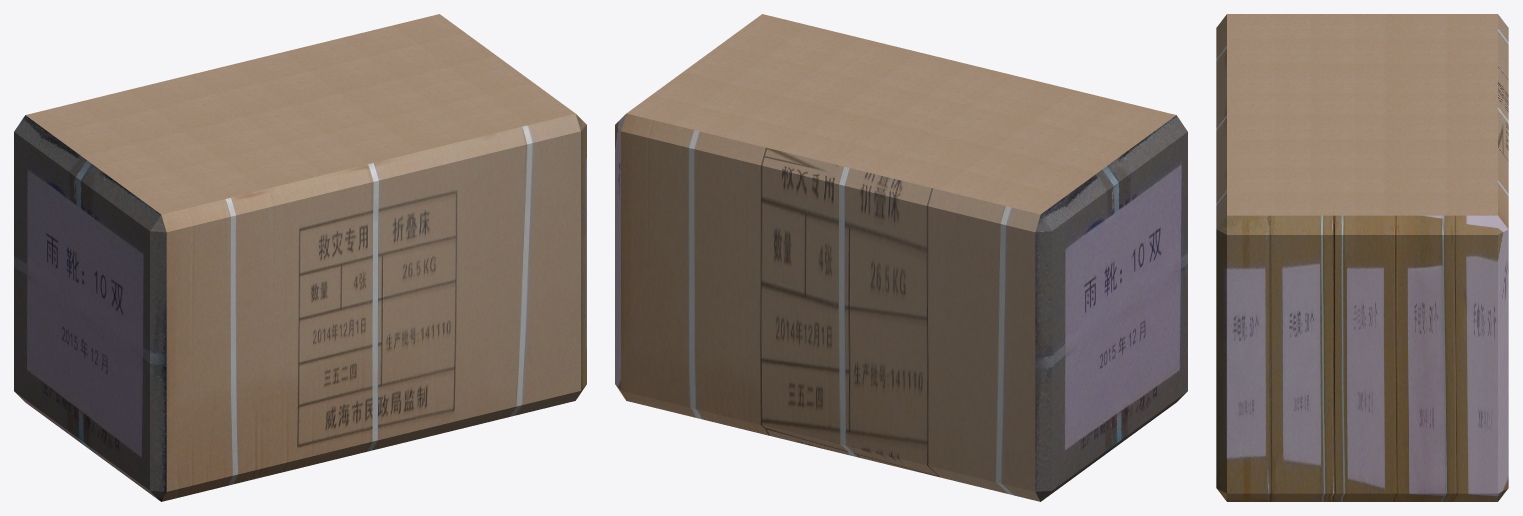
The model's file is yuxie.FBX.
The picture shows the model from 3 angles, left to right: view 1: azimuth 30°, elevation 25°; view 2: azimuth 150°, elevation 25°; view 3: azimuth 270°, elevation 25°; orthographic projection.
Parts seen in each view (by area): view 1: 对象98; view 2: 对象98; view 3: 对象98.
Boxes of the visible parts, x1=… form: 对象98: x1=14, y1=14, x2=586, y2=501; 对象98: x1=615, y1=14, x2=1187, y2=501; 对象98: x1=1216, y1=14, x2=1508, y2=501.
Bounding box in the file's own units: 0.7354 × 0.4272 × 0.4622.
